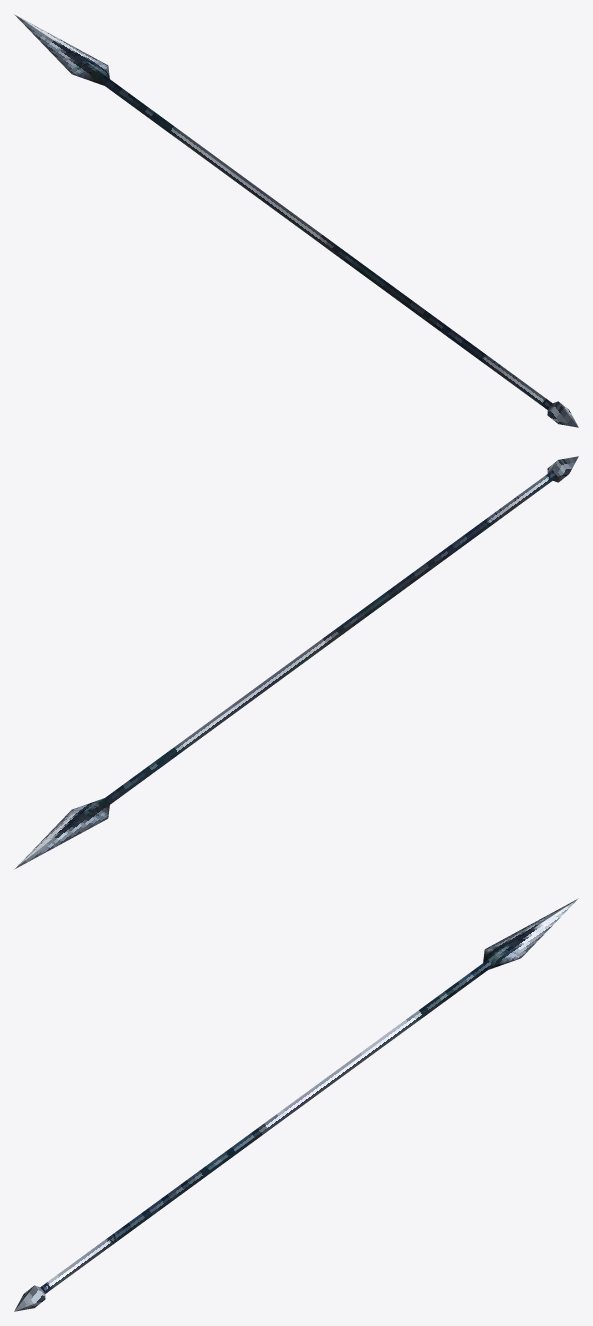
Rendered from spear_gax_spears_of_sparta_spears_of_sparta5_ice.glb.
3 renders of one model, top to bottom at view 1: azimuth 30°, elevation 25°; view 2: azimuth 150°, elevation 25°; view 3: azimuth 330°, elevation 25°, orthographic.
Size of the model in its own units: 0.1163 by 0.0696 by 3.11.
1 material, 1 textured.
